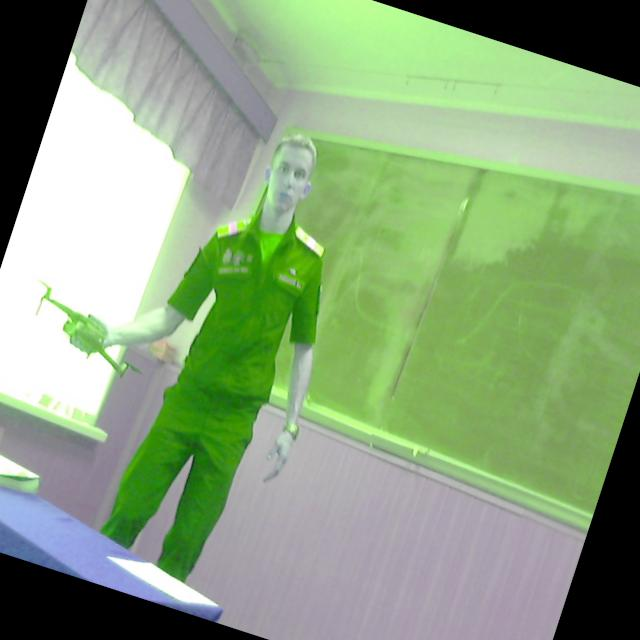drone: (8, 262, 175, 401)
